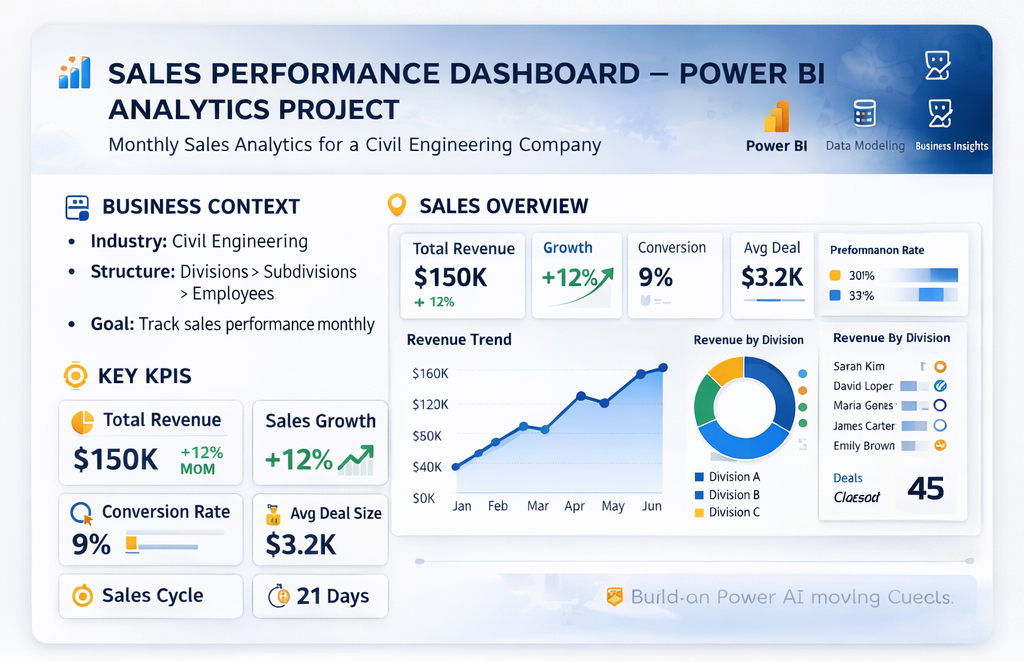

This screenshot's page, from the dashboard's own definition file:
{"tool":"powerbi","page":{"name":"SALES OVERVIEW","canvas":[1280,720],"ordinal":0},"visuals":[{"type":"shape","box":[135.3,0,1020,67.6],"z":0},{"type":"cardVisual","fields":{"Data":["measurements.Total Revenue"]},"box":[175.1,80.9,163.2,102.1],"z":1000},{"type":"cardVisual","fields":{"Data":["measurements.Sales Growth %"]},"box":[359.5,80.9,169.8,102.1],"z":2000},{"type":"cardVisual","fields":{"Data":["measurements.Conversion Rate"]},"box":[550.5,80.9,180.4,102.1],"z":3000},{"type":"cardVisual","fields":{"Data":["measurements.Average Deal Size"]},"box":[748.1,80.9,189.7,102.1],"z":4000},{"type":"cardVisual","fields":{"Data":["measurements.Sales Cycle Length"]},"box":[959,82.2,196.3,102.1],"z":5000},{"type":"textbox","box":[359.5,5.3,565.1,57],"z":6000},{"type":"lineChart","title":"Total Revenue","fields":{"Category":["Calendar.Month Year"],"Y":["measurements.Total Revenue"]},"box":[163.2,184.4,500.1,228.1],"z":7000},{"type":"columnChart","title":"Revenue by Division","fields":{"Category":["sales.DivisionName"],"Y":["measurements.Total Revenue"]},"box":[140.6,439,351.5,281.2],"z":8000},{"type":"funnel","title":"Sales Funnel","fields":{"Category":["leads.Status"],"Y":["CountNonNull(leads.LeadID)"]},"box":[663.2,192.3,482.8,246.7],"z":9000},{"type":"shape","box":[0,0,135.3,720.2],"z":10000},{"type":"tableEx","fields":{"Values":["sales.EmployeeName","measurements.Total Revenue"]},"box":[904.6,439,244.1,281.2],"z":11000},{"type":"slicer","fields":{"Values":["Calendar.Year"]},"box":[0,236.1,135.3,65],"z":12000},{"type":"shape","box":[1155.3,0,124.7,720.2],"z":13000},{"type":"slicer","fields":{"Values":["employees.DivisionName"]},"box":[0,301.1,135.3,65],"z":14000},{"type":"slicer","fields":{"Values":["employees.SubdivisionName"]},"box":[0,360.8,135.3,65],"z":15000},{"type":"slicer","fields":{"Values":["leads.LeadSource"]},"box":[0,425.8,135.3,65],"z":16000},{"type":"donutChart","title":"Revenue by Subdivision","fields":{"Category":["employees.SubdivisionName"],"Y":["measurements.Total Revenue"]},"box":[473.5,439,431.1,281.2],"z":17000}]}

Visuals, with their boxes on the page's 1280x720 design canvas (x1, y1, x2, y2). These are canvas units, not pixel positions in the 1024x662 screenshot, which may show the page scaled, cropped or inside an application window:
shape: 135,0,1155,68
cardVisual - measurements.Total Revenue: 175,81,338,183
cardVisual - measurements.Sales Growth %: 360,81,529,183
cardVisual - measurements.Conversion Rate: 550,81,731,183
cardVisual - measurements.Average Deal Size: 748,81,938,183
cardVisual - measurements.Sales Cycle Length: 959,82,1155,184
textbox: 360,5,925,62
"Total Revenue" lineChart: 163,184,663,412
"Revenue by Division" columnChart: 141,439,492,720
"Sales Funnel" funnel: 663,192,1146,439
shape: 0,0,135,720
tableEx - sales.EmployeeName x measurements.Total Revenue: 905,439,1149,720
slicer - Calendar.Year: 0,236,135,301
shape: 1155,0,1280,720
slicer - employees.DivisionName: 0,301,135,366
slicer - employees.SubdivisionName: 0,361,135,426
slicer - leads.LeadSource: 0,426,135,491
"Revenue by Subdivision" donutChart: 474,439,905,720
